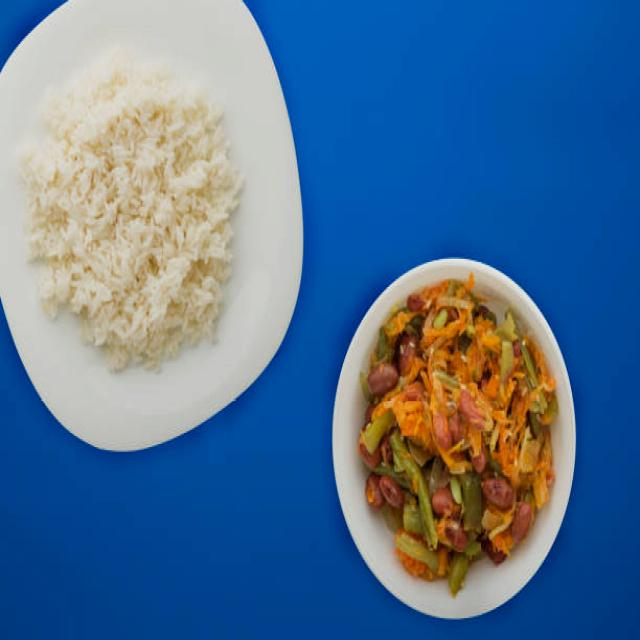Rice: (19, 49, 247, 373)
